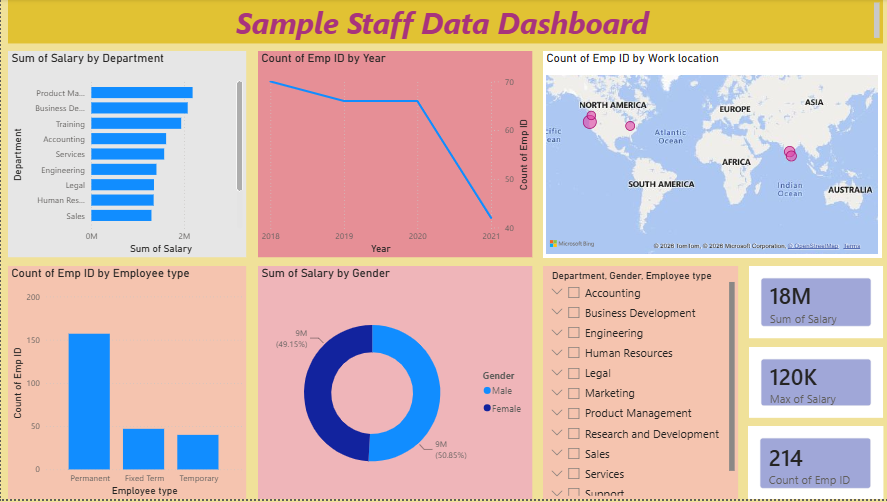

This screenshot's page, from the dashboard's own definition file:
{"tool":"powerbi","page":{"name":"Page 1","canvas":[1280,720],"ordinal":0},"visuals":[{"type":"barChart","fields":{"Category":["Staff.Department"],"Y":["Sum(Staff.Salary)"]},"box":[10.1,75.6,342.7,297.3],"z":0},{"type":"lineChart","fields":{"Category":["Staff.Start Date.Variation.Date Hierarchy.Year","Staff.Start Date.Variation.Date Hierarchy.Month"],"Y2":["CountNonNull(Staff.Emp ID)"]},"box":[369.6,75.6,394.8,297.3],"z":1000},{"type":"donutChart","fields":{"Category":["Staff.Gender"],"Y":["Sum(Staff.Salary)"]},"box":[369.6,384.7,394.8,336],"z":2000},{"type":"map","fields":{"Category":["Staff.Work location"],"Size":["CountNonNull(Staff.Emp ID)"]},"box":[781.1,75.6,487.1,297.3],"z":3000},{"type":"cardVisual","fields":{"Data":["Max(Staff.Salary)"]},"box":[1076.7,500.6,193.2,102.5],"z":4000},{"type":"cardVisual","fields":{"Data":["Count(Staff.Emp ID)"]},"box":[1075.1,614.8,194.9,107.5],"z":5000},{"type":"columnChart","fields":{"Y":["CountNonNull(Staff.Emp ID)"],"Category":["Staff.Employee type"]},"box":[10.1,384.7,342.7,336],"z":6000},{"type":"slicer","fields":{"Values":["Staff.Department","Staff.Gender","Staff.Employee type"]},"box":[781.1,384.7,280.5,336],"z":7000},{"type":"textbox","box":[10.1,0,1259.8,63.8],"z":8000},{"type":"cardVisual","fields":{"Data":["Sum(Staff.Salary)"]},"box":[1076.7,384.7,193.2,104.1],"z":9000}]}

Visuals, with their boxes in screenshot pixels (x1, y1, x2, y2), scaled from the page's 1280x720 canvas onto the 887x502 screenshot:
barChart - Staff.Department x Sum(Staff.Salary): <box>7,53,244,260</box>
lineChart - Staff.Start Date.Variation.Date Hierarchy.Year x Staff.Start Date.Variation.Date Hierarchy.Month: <box>256,53,530,260</box>
donutChart - Staff.Gender x Sum(Staff.Salary): <box>256,268,530,501</box>
map - Staff.Work location x CountNonNull(Staff.Emp ID): <box>541,53,879,260</box>
cardVisual - Max(Staff.Salary): <box>746,349,880,420</box>
cardVisual - Count(Staff.Emp ID): <box>745,429,880,501</box>
columnChart - CountNonNull(Staff.Emp ID) x Staff.Employee type: <box>7,268,244,501</box>
slicer - Staff.Department x Staff.Gender: <box>541,268,736,501</box>
textbox: <box>7,0,880,44</box>
cardVisual - Sum(Staff.Salary): <box>746,268,880,341</box>
